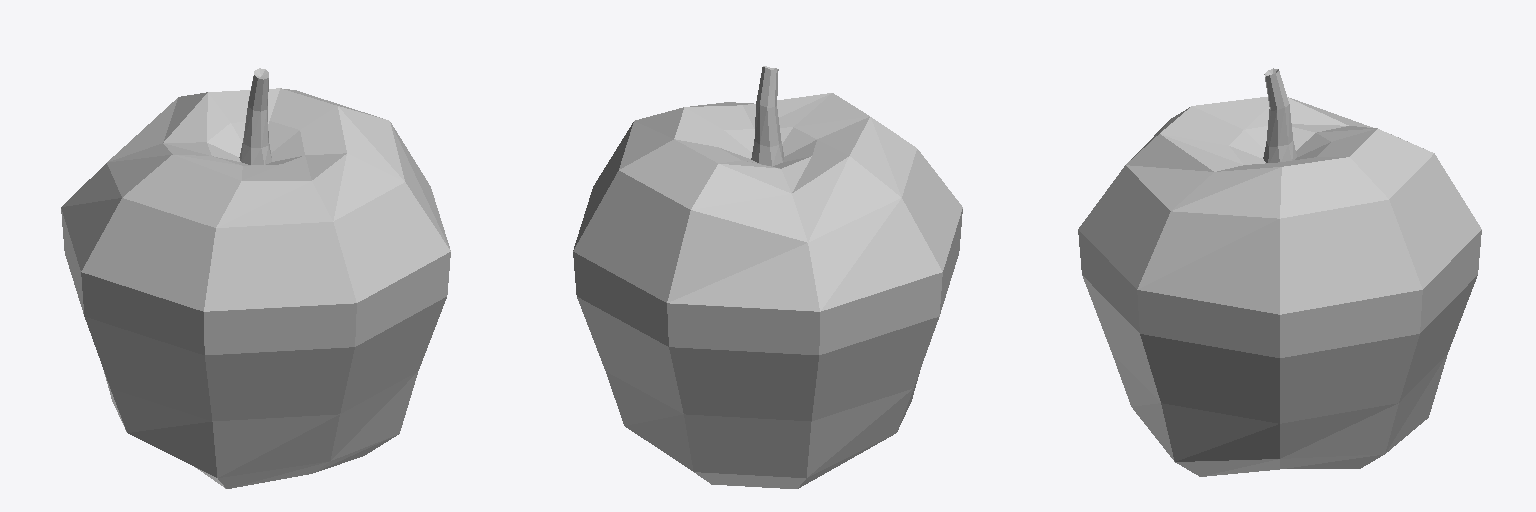
The model's file is appleFull1.obj.
3 renders of one model, left to right at view 1: azimuth 30°, elevation 25°; view 2: azimuth 150°, elevation 25°; view 3: azimuth 270°, elevation 25°, orthographic.
Visible parts, largest first — view 1: pSphere2; view 2: pSphere2; view 3: pSphere2.
Part boxes in pixels (left/top/right/bottom): pSphere2: left=61, top=68, right=450, bottom=488; pSphere2: left=573, top=66, right=962, bottom=488; pSphere2: left=1078, top=68, right=1481, bottom=476.
Bounding box in the file's own units: 6.32 × 6.47 × 6.32.